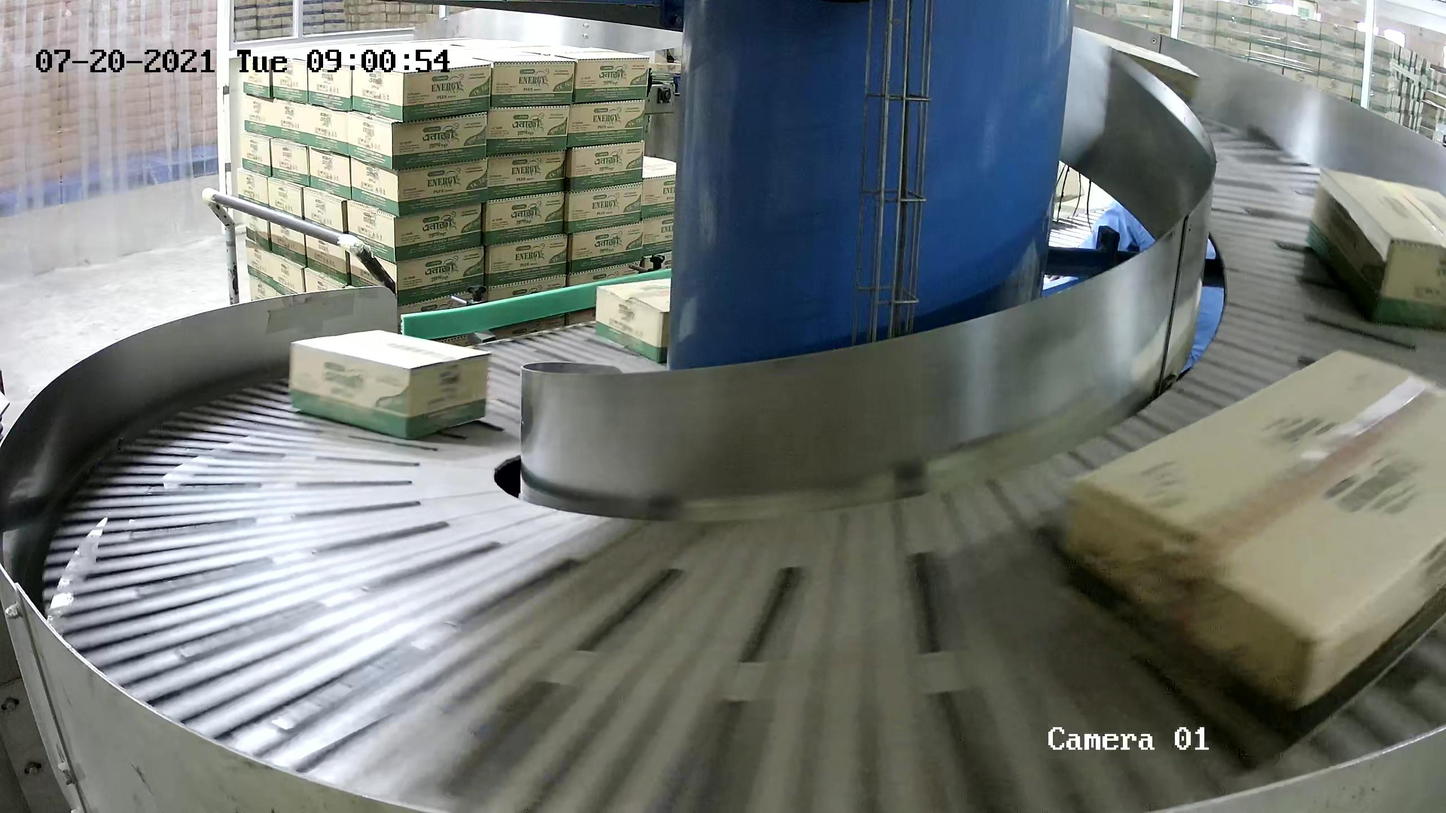Box: (1060, 343, 1446, 744), (1307, 167, 1446, 331), (287, 329, 491, 440), (595, 273, 764, 367)
